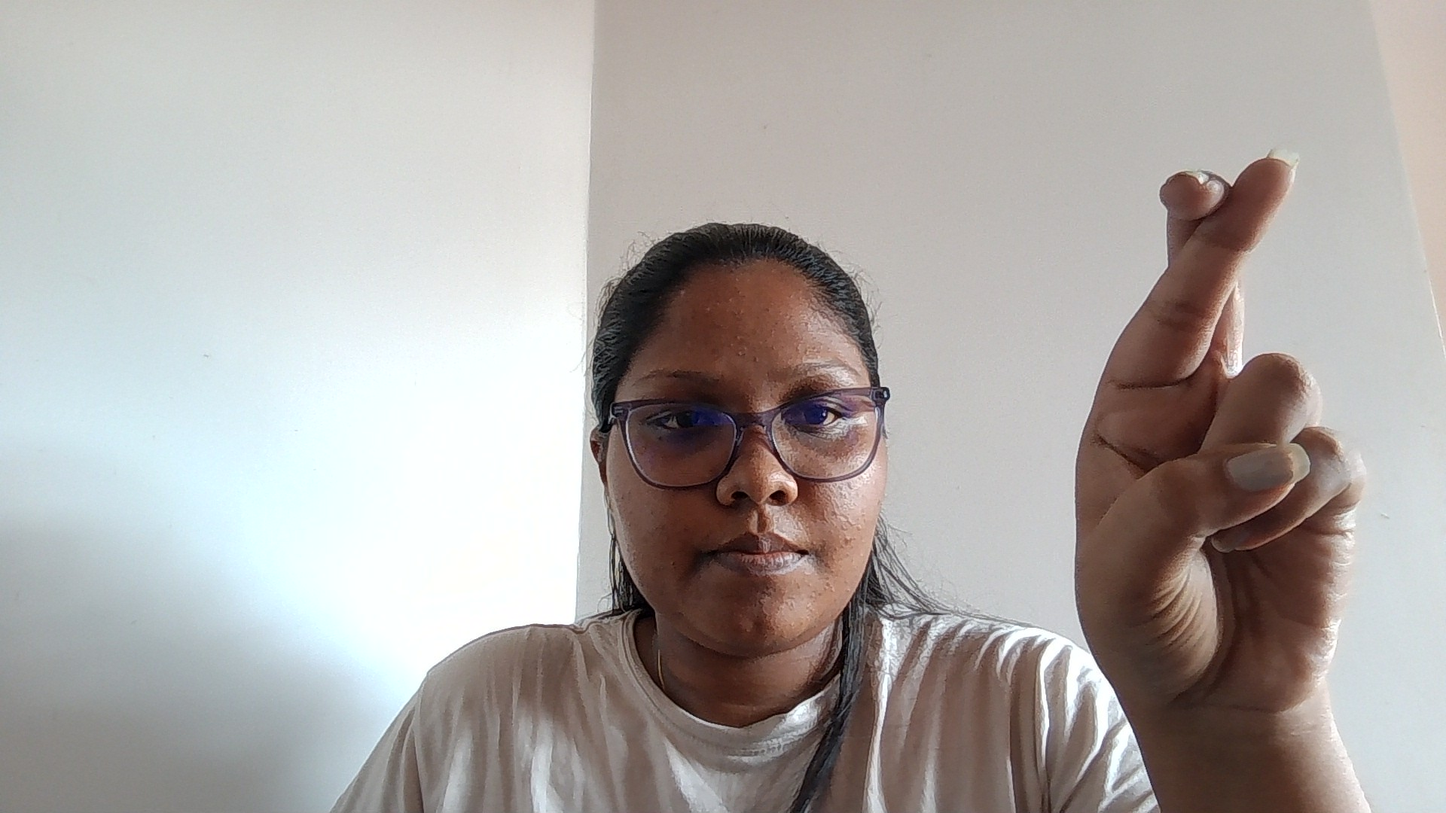Good_Luck: (1052, 73, 1410, 735)
